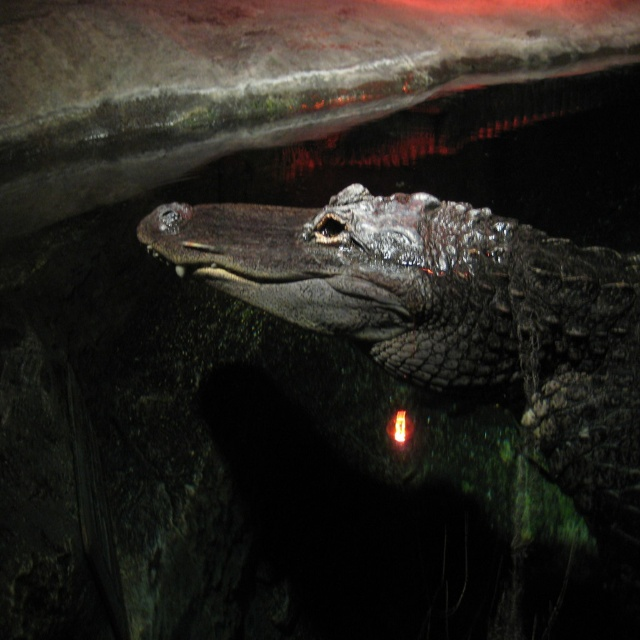Crocodile: (137, 182, 640, 518)
